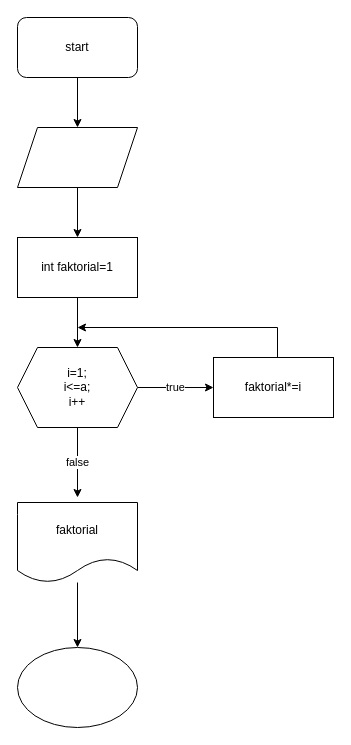
Some shapes in this 351 by 745 pixel diagram are drawn without their labels. Here are the shapes that lost their labels. From the top down, the box of each, then its label:
(16, 126, 138, 188): input a
(16, 646, 138, 728): end
